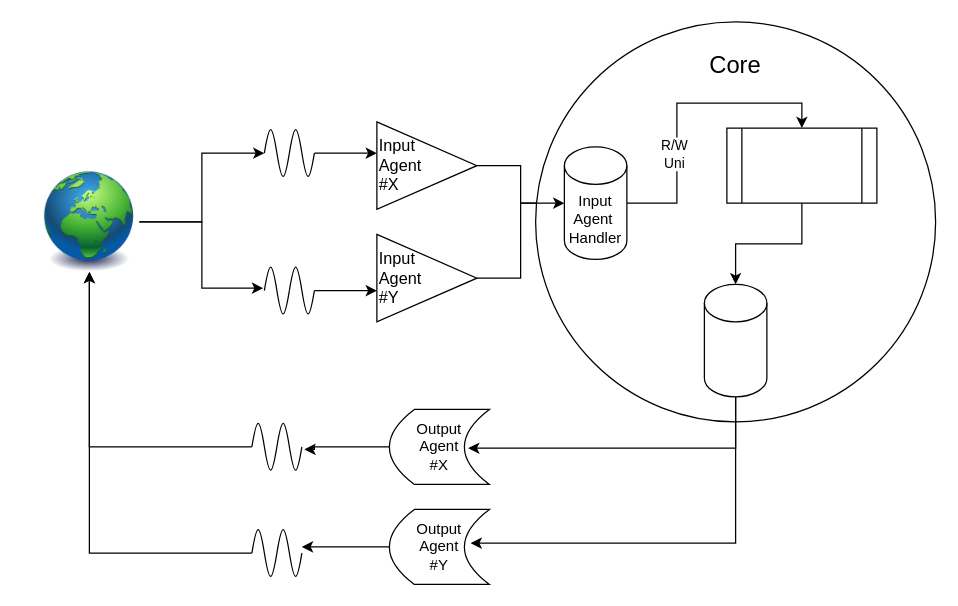
The diagram is 958 pixels wide and 606 high, and some of its shapes have lost their labels. Each missing label, with the centre of its shape:
External Enviroment: pixel 89 221
Output Agent Handler: pixel 735 340
The Memory: pixel 801 165
